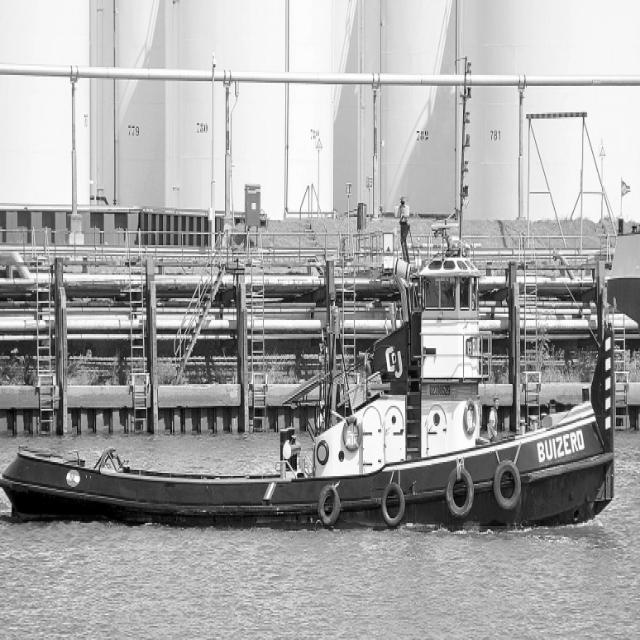tugboat: (1, 48, 622, 555)
